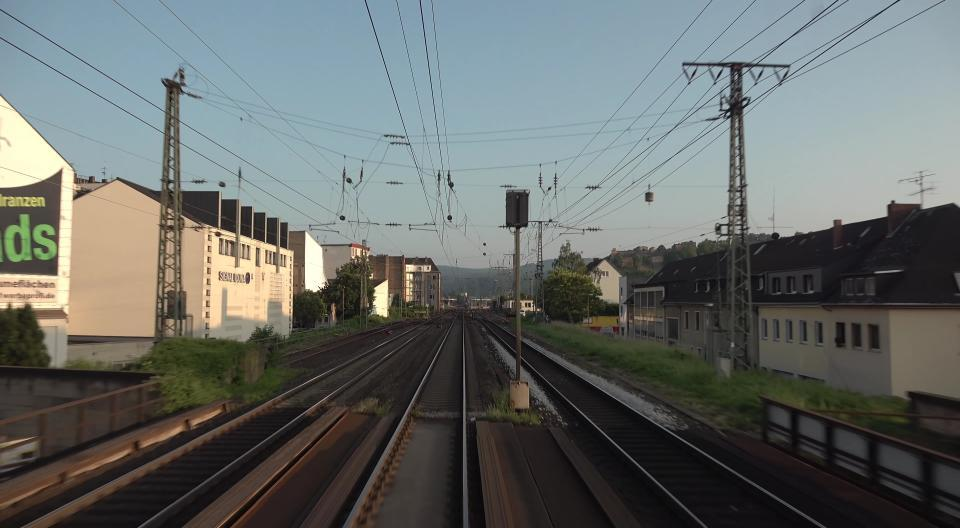Plant: (476, 390, 542, 425), (414, 405, 460, 418), (352, 397, 387, 414)
